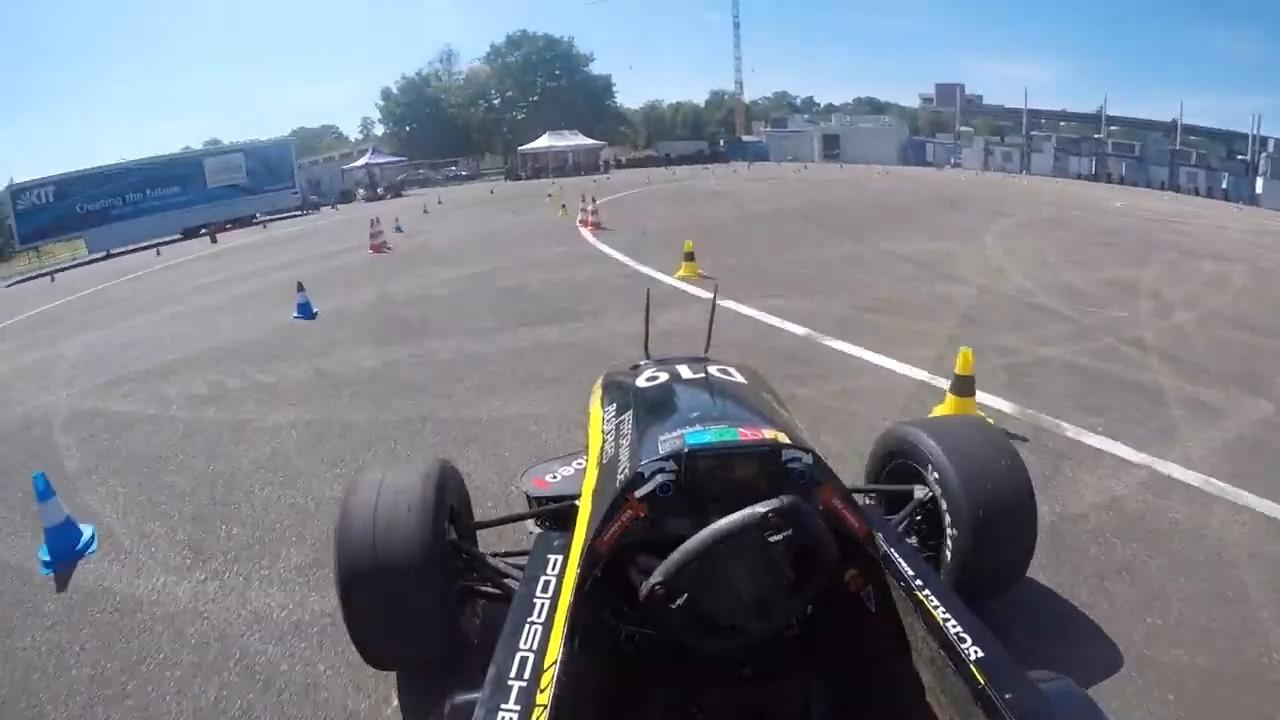blue_cone: (36, 459, 96, 573), (289, 279, 317, 320), (392, 216, 401, 234), (421, 202, 428, 215)
large_orange_cone: (365, 218, 385, 254), (587, 194, 604, 231), (375, 214, 388, 252), (576, 194, 589, 227)
yellow_cone: (925, 338, 993, 438), (669, 236, 704, 282), (558, 197, 570, 217), (547, 190, 554, 203)
